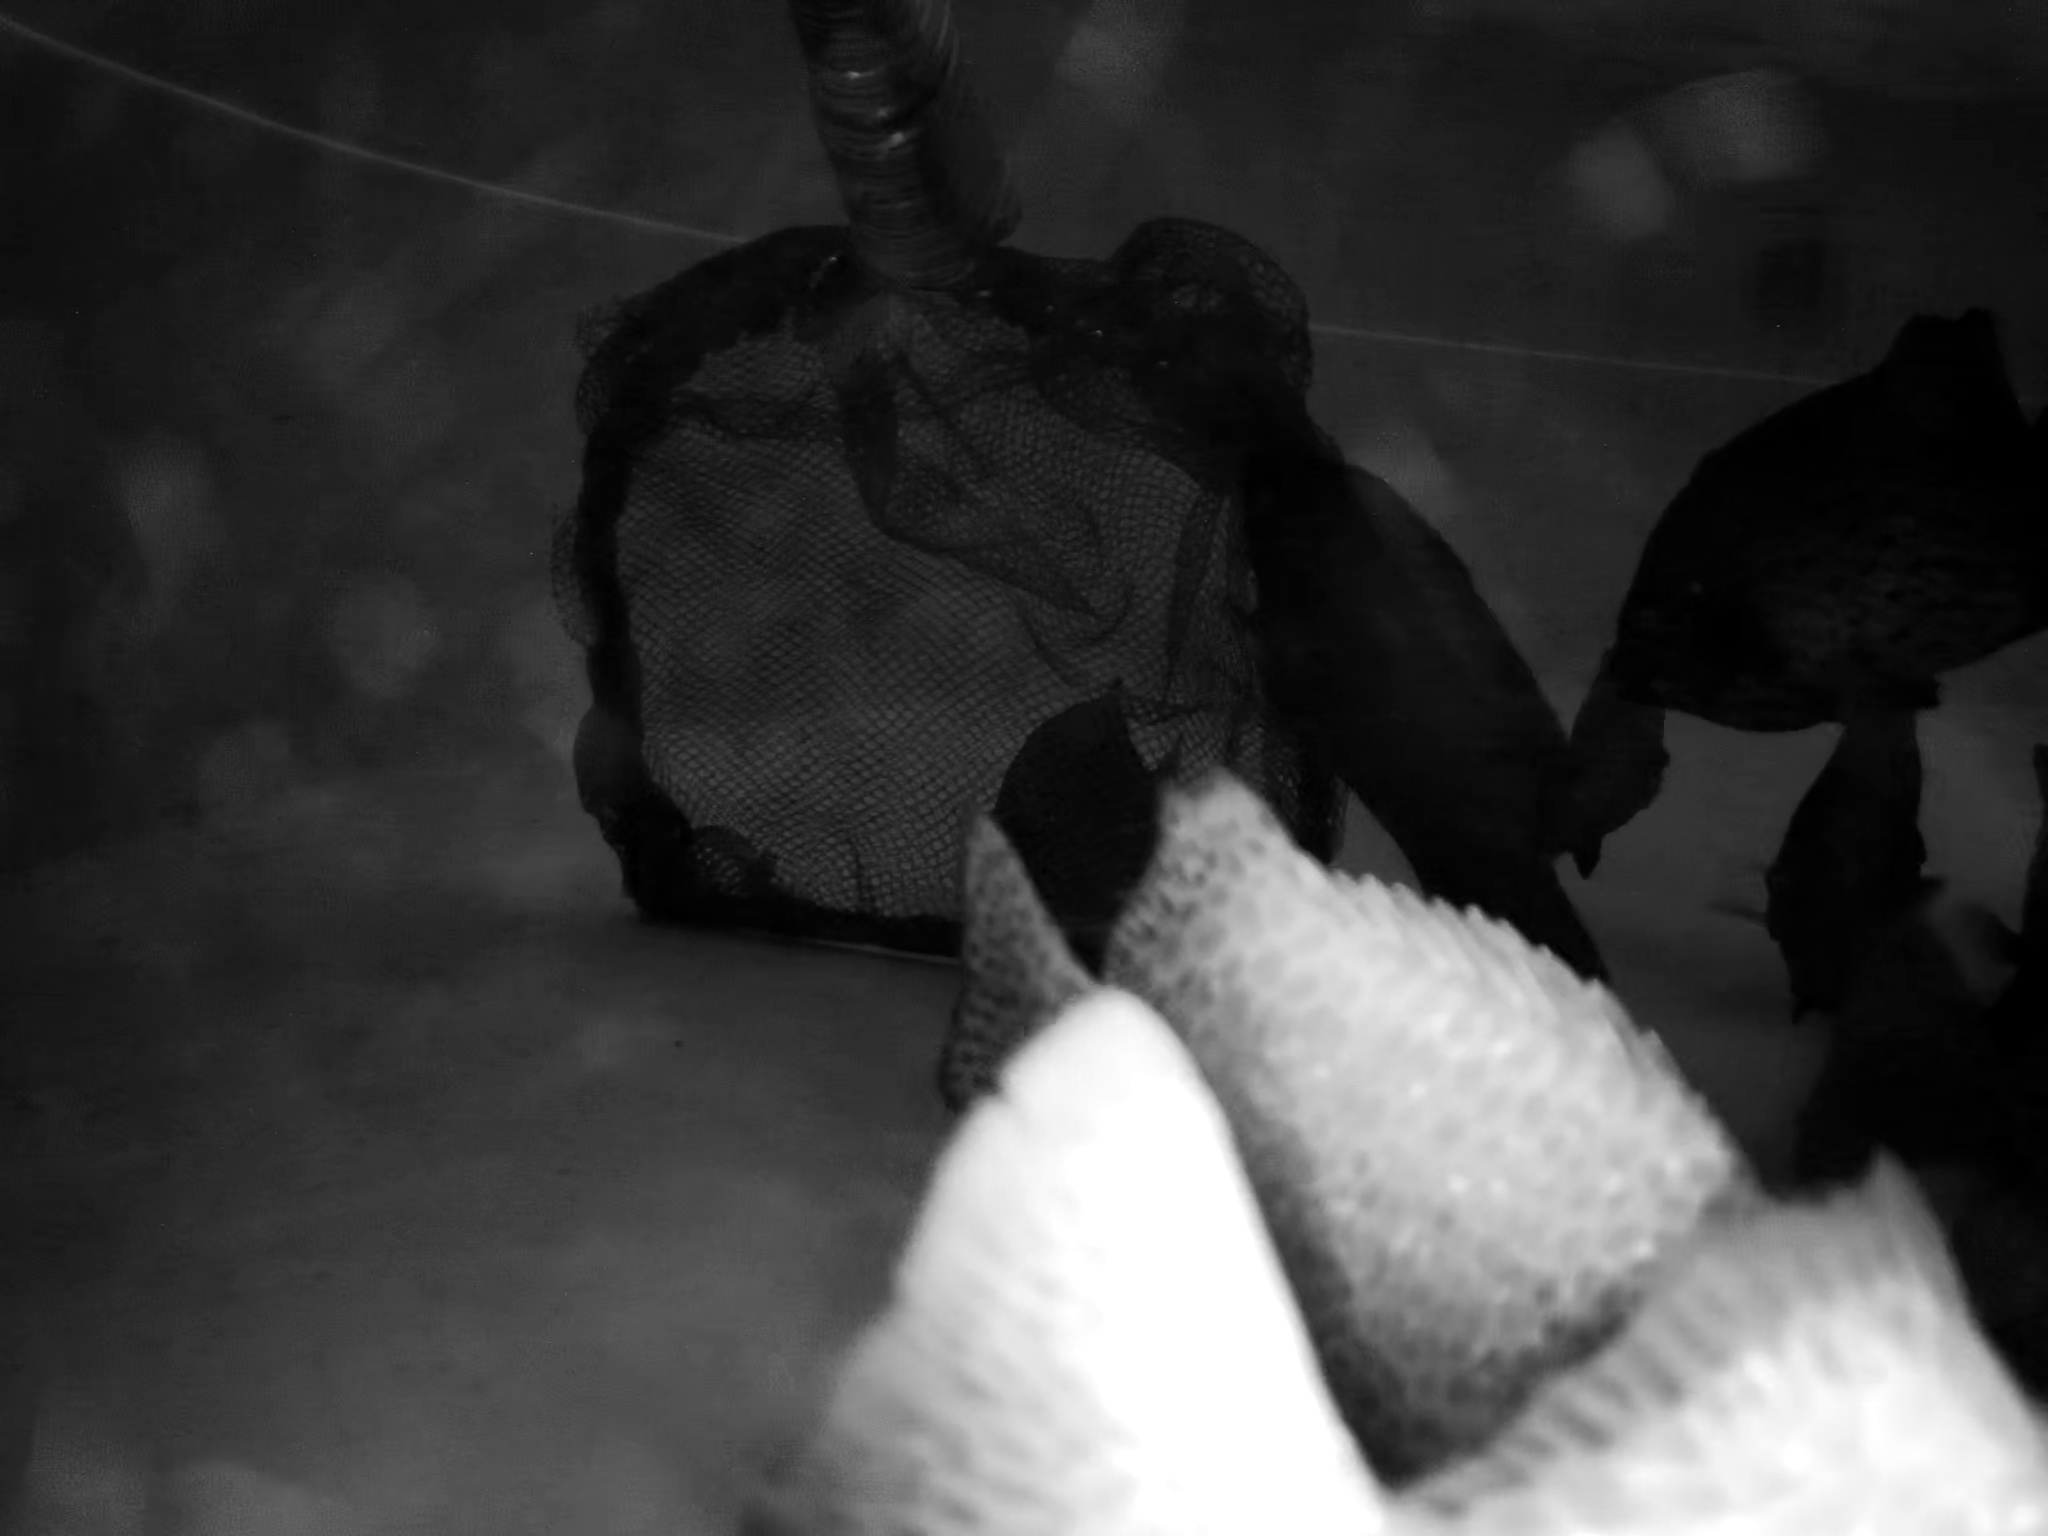fish: (743, 983, 2048, 1536), (948, 733, 1792, 1423), (1756, 682, 1954, 1037), (993, 663, 1234, 952), (1535, 600, 1684, 860)
